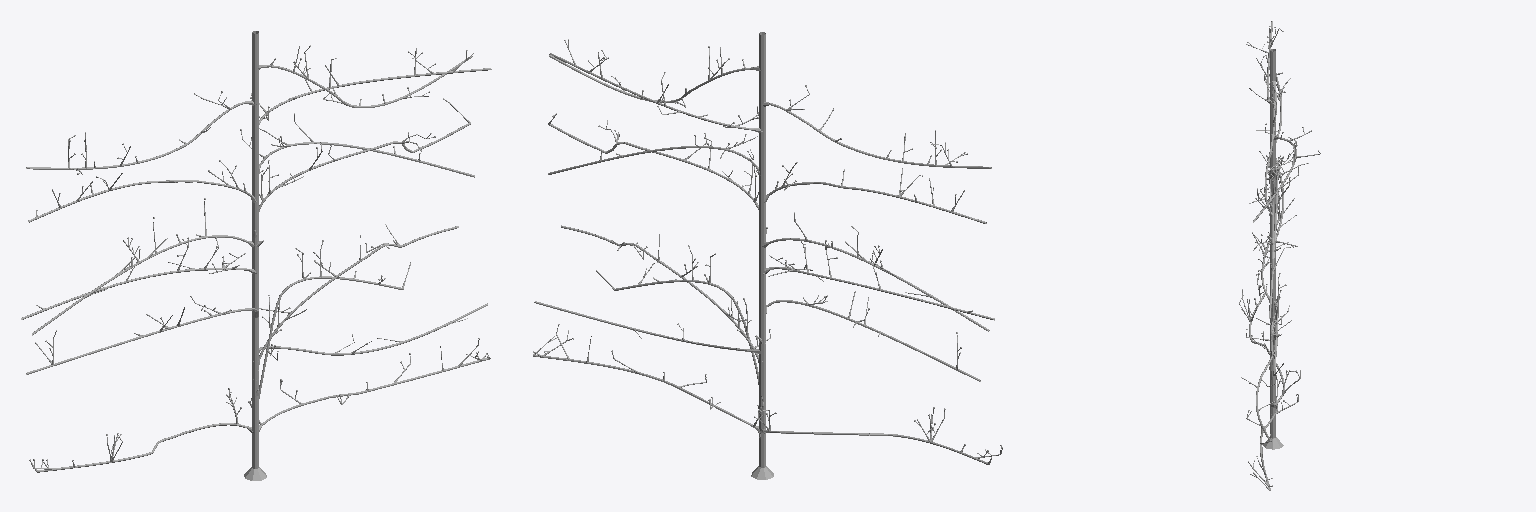
The robot description file, URDF, robot "ur5e":
<robot name="ur5e" xmlns:xacro="http://ros.org/wiki/xacro">
    <link name="tree">
        <visual>
        <geometry>
            <mesh filename="./meshes_and_urdf/meshes/trees/envy/train/tree_16.obj" scale="1 1 1"/>
        </geometry>
        <material name="LightGrey">
            <color rgba="0.7 0.7 0.7 1.0"/>
        </material>
        </visual>
        <collision concave = "true">
        <geometry>
            <mesh filename="./meshes_and_urdf/meshes/trees/envy/train/tree_16.obj" scale="1 1 1"/>
        </geometry>
        </collision>
        <inertial>
        <mass value="4.0"/>
        <origin rpy="0 0 0" xyz="0.0 0.0 0.0"/>
        <inertia ixx="0.00443333156" ixy="0.0" ixz="0.0" iyy="0.00443333156" iyz="0.0" izz="0.0072"/>
        </inertial>
    </link>
        <link name="world"/>
    <joint name="tree_joint" type="fixed">
        <parent link="world"/>
        <child link="tree"/>
        <origin rpy="0.0 0.0 0.0" xyz="0.0 0.0 0.0"/>
    </joint>
    </robot>

--- What the picture shows (computed from the rendered views, not written in the file) ---
Views: 3 orthographic renders of the robot side by side, from view 1: azimuth 30°, elevation 25°; view 2: azimuth 150°, elevation 25°; view 3: azimuth 270°, elevation 25°.
Robot: ur5e — 2 links, 1 joints (1 fixed); root link world; default pose: every joint at zero.
Links seen in each view (by area): view 1: tree; view 2: tree; view 3: tree.
Link boxes in pixels (bbox=[...]): tree: bbox=[21, 31, 491, 480]; tree: bbox=[533, 32, 1002, 479]; tree: bbox=[1239, 21, 1320, 490].
Bounding box of the posed robot: 4.41 × 0.7559 × 4 m (x, y, z).
Meshes: 1 distinct files referenced, 1 mesh visuals loaded (1 OBJ).